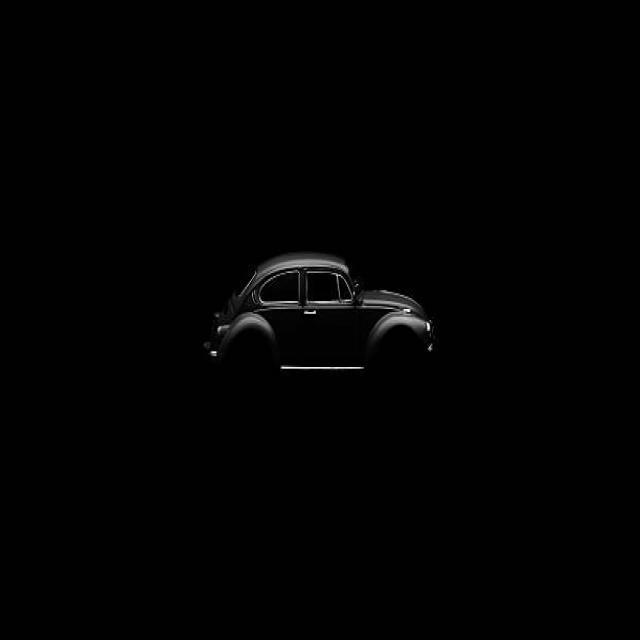car: (202, 254, 436, 391)
